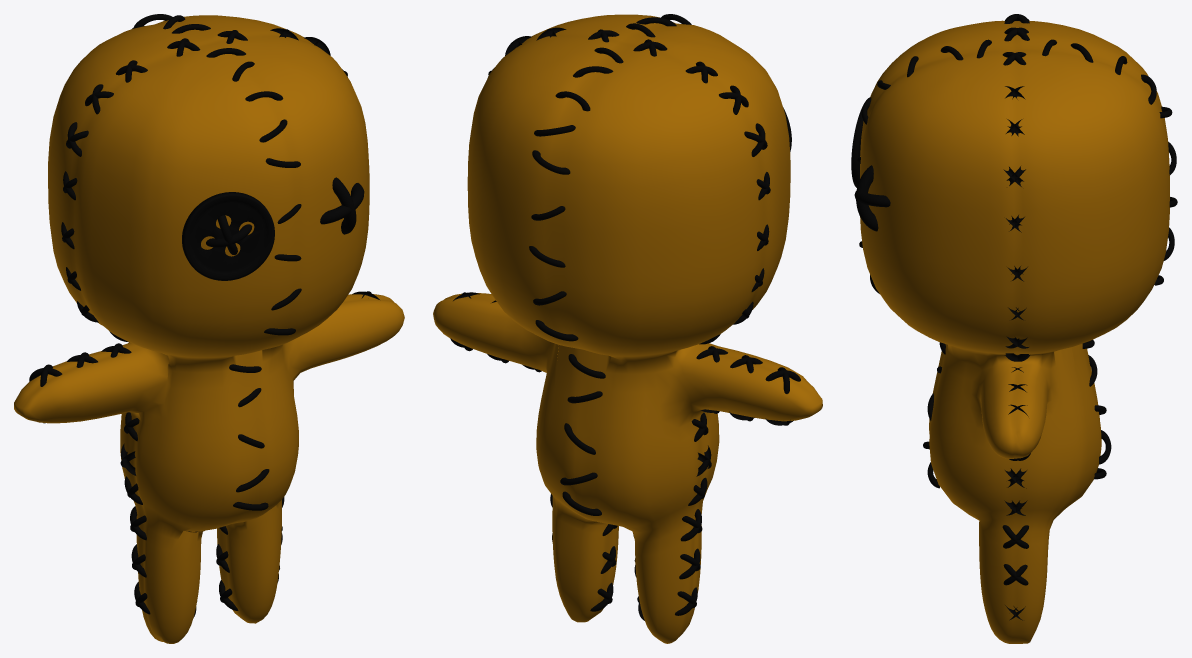
The model's file is doll.fbx.
3 views of the same model, side by side, from view 1: azimuth 30°, elevation 25°; view 2: azimuth 150°, elevation 25°; view 3: azimuth 270°, elevation 25° (orthographic). The views are drawn at different scales.
Visible parts, largest first — view 1: Medium_Run__2_.001; view 2: Medium_Run__2_.001; view 3: Medium_Run__2_.001.
Boxes of the visible parts, x1=… form: Medium_Run__2_.001: x1=14, y1=14, x2=404, y2=643; Medium_Run__2_.001: x1=433, y1=14, x2=822, y2=643; Medium_Run__2_.001: x1=851, y1=14, x2=1177, y2=643.
Size of the model in its own units: 7567 by 11240 by 5688.
Materials: 1 (1 with a texture image).
